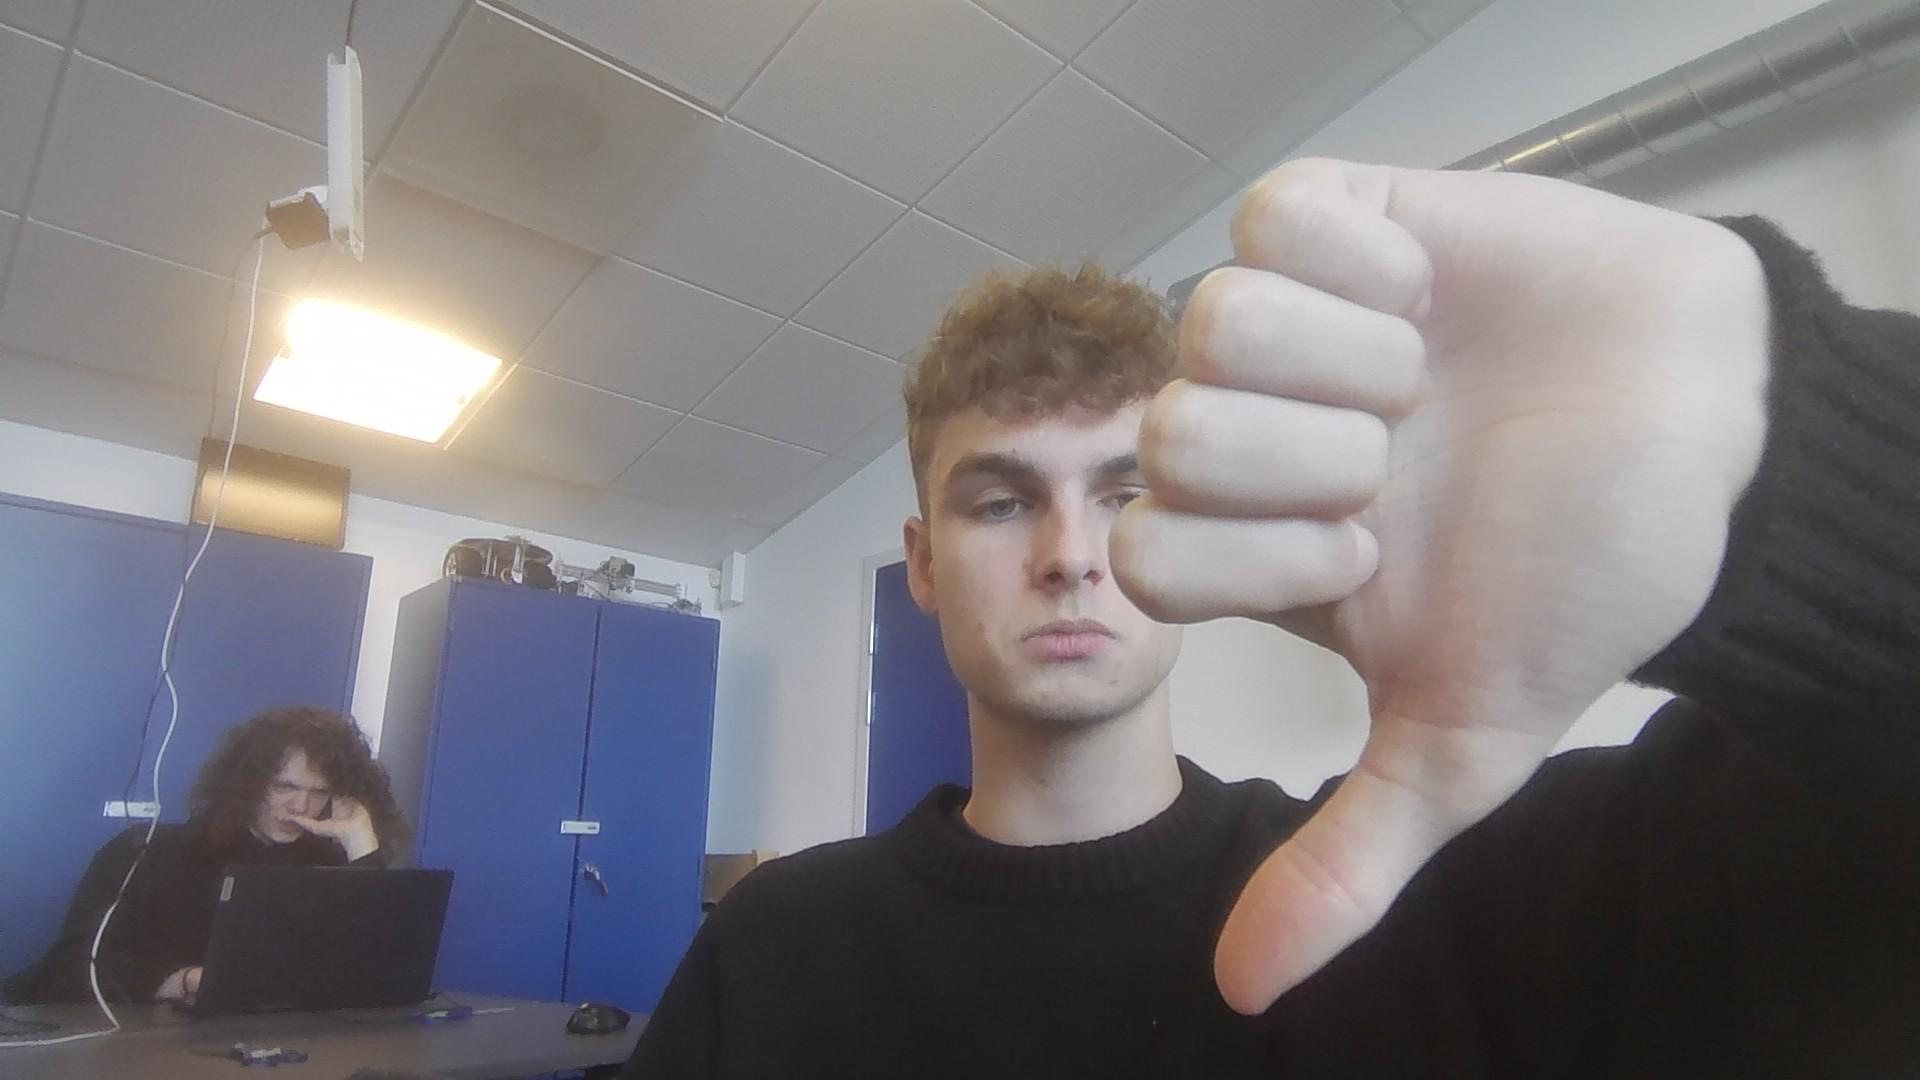thumbs down: (1117, 136, 1756, 985)
